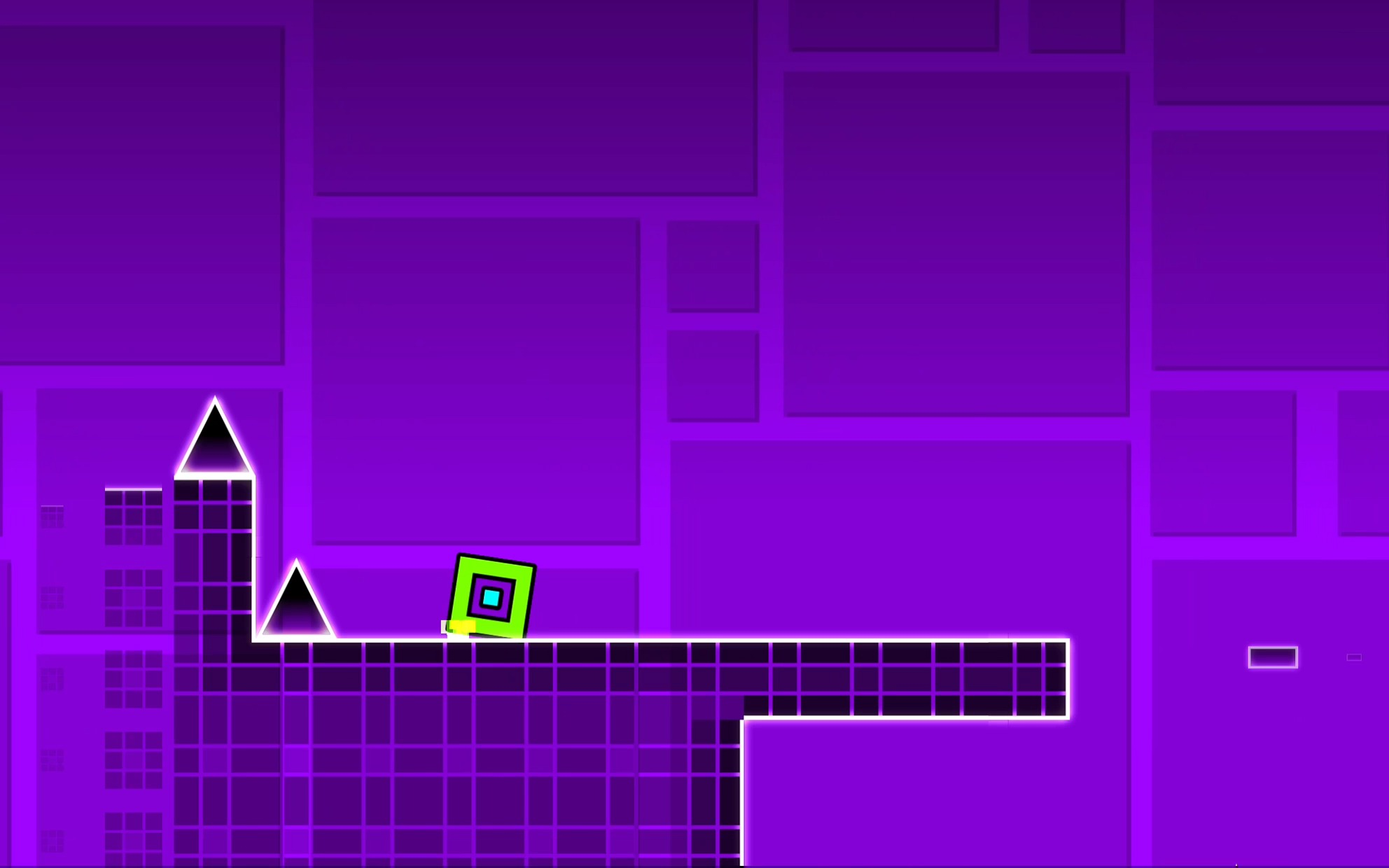Block2: (247, 645, 739, 868), (85, 476, 252, 868), (742, 638, 1070, 716)
Block3: (1247, 645, 1297, 668)
Player: (448, 554, 535, 637)
Spike: (174, 399, 252, 477), (259, 561, 334, 638)
